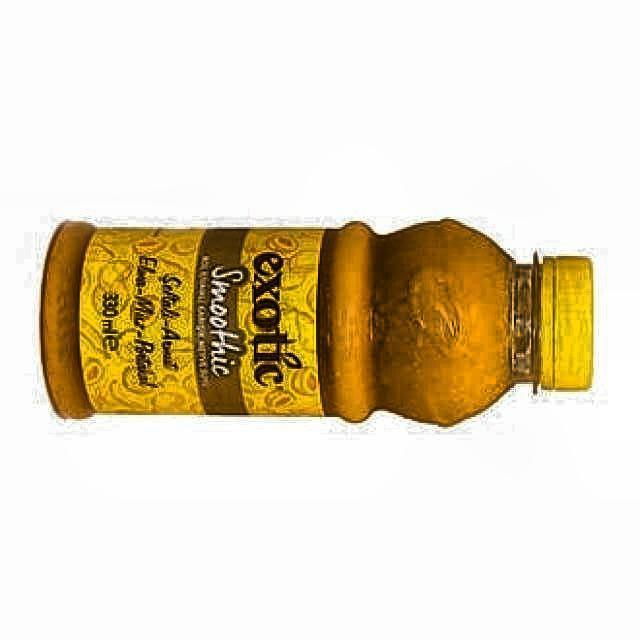plastic: (40, 220, 594, 424)
